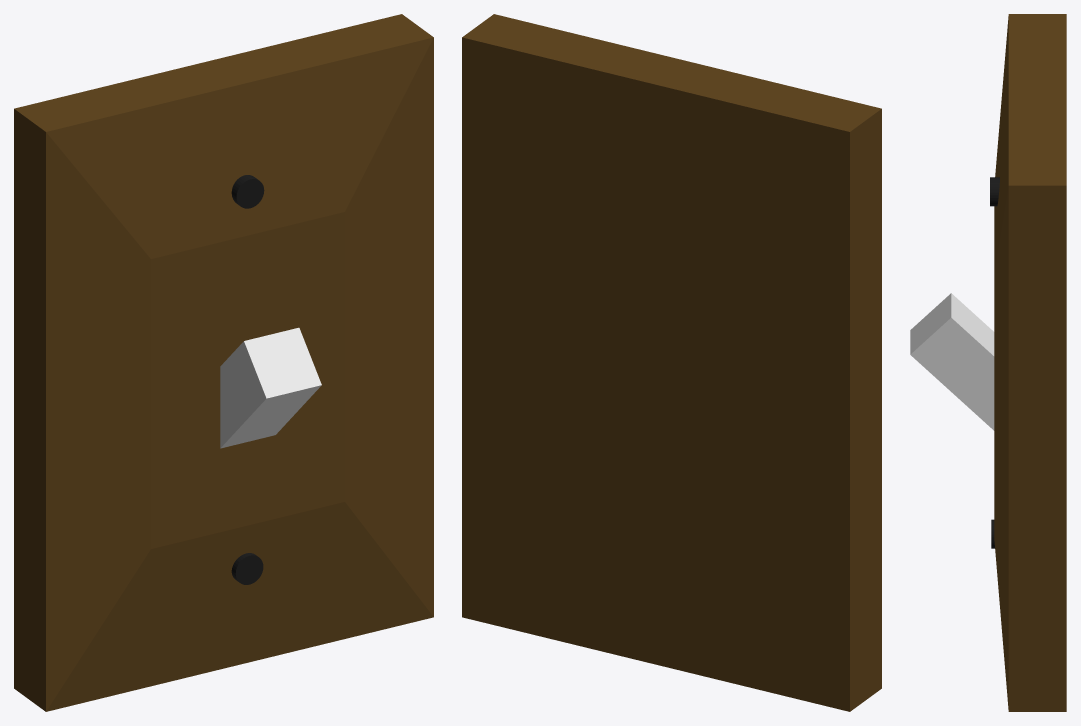
The model's file is lightSwitchOn.glb.
3 renders of one model, left to right at view 1: azimuth 30°, elevation 25°; view 2: azimuth 150°, elevation 25°; view 3: azimuth 270°, elevation 25°, orthographic. The views are drawn at different scales.
Visible parts, largest first — view 1: Cube, Cube.001, Cylinder.001, Cylinder; view 2: Cube; view 3: Cube, Cube.001, Cylinder.001.
Boxes of the visible parts, bbox=[...] form: Cube: bbox=[14, 14, 433, 711]; Cube.001: bbox=[220, 327, 321, 448]; Cylinder.001: bbox=[231, 175, 264, 208]; Cylinder: bbox=[231, 553, 263, 584]; Cube: bbox=[462, 14, 881, 711]; Cube: bbox=[994, 14, 1066, 711]; Cube.001: bbox=[910, 293, 994, 430]; Cylinder.001: bbox=[990, 177, 999, 206].
Bounding box in the file's own units: 1.4 × 2 × 0.5392.
